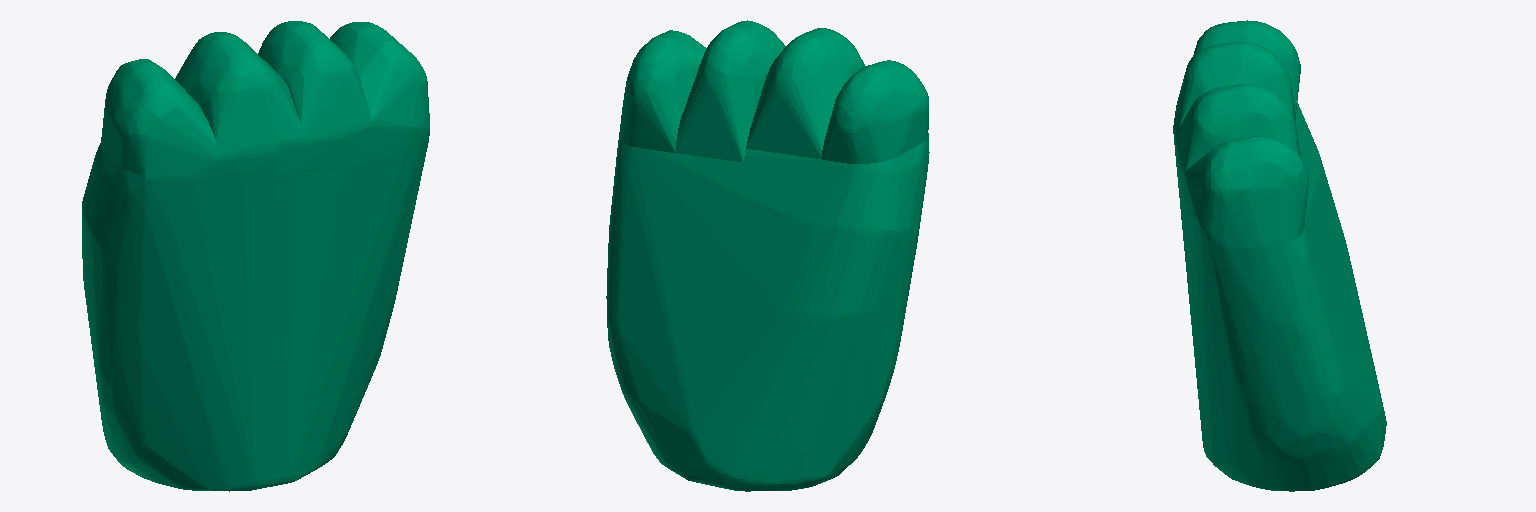
URDF robot description (ability_hand):
<robot name="ability_hand">
  <link name="base_link"/>
  <joint name="base_joint" type="fixed">
    <parent link="base_link"/>
    <child link="base"/>
    <origin xyz="0 0 0" rpy="0 0 0"/>
  </joint>
  <link name="base">
    <visual name="wrist_mesh">
      <origin rpy="0 0 0" xyz="0 0 0"/>
      <geometry>
        <mesh filename="meshes/visual/wristmesh.obj"/>
      </geometry>
    </visual>
    <collision>
      <origin xyz="0 0 0" rpy="0 0 0"/>
      <geometry>
        <mesh filename="meshes/collision/wristmesh_C.obj"/>
      </geometry>
    </collision>
    <inertial>  <!-- the mass and inertia here are NOT correct -->
      <mass value="0.200"/>
      <inertia ixx="978.26e-6" ixy="87.34e-6" ixz="322.99e-6" iyy="1244.78e-6" iyz="244.74e-6" izz="456.22e-6"/>
      <origin xyz="22.41911e-3 -0.15798201e-3 -0.01319866e-3" rpy="0 0 0"/>
    </inertial>
  </link>
  <joint name="wrist2thumb" type="fixed">
    <parent link="base"/>
    <child link="thumb_base"/>
    <origin xyz="-24.0476665e-3 3.78124745e-3 32.32964923e-3" rpy="3.14148426 -0.08848813 -3.14036612"/>
  </joint>
  <link name="thumb_base">
    <inertial>
      <mass value="0.200"/>
      <inertia ixx="978.26e-6" ixy="87.34e-6" ixz="322.99e-6" iyy="1244.78e-6" iyz="244.74e-6" izz="456.22e-6"/>
      <origin xyz="22.41911e-3 -0.15798201e-3 -0.01319866e-3" rpy="0 0 0"/>
    </inertial>
    <visual name="palm_mesh">
      <origin rpy="0 0 0" xyz="0 0 0"/>
      <geometry>
        <mesh filename="meshes/visual/FB_palm_ref_MIR.obj"/>
      </geometry>
    </visual>
    <collision>                                  <!-- thumb_base -->
      <origin xyz="0 0 0" rpy="0 0 0"/>
      <geometry>
        <mesh filename="meshes/collision/FB_palm_ref_MIR.obj"/>
      </geometry>
    </collision>
  </link>
  <link name="index_L1">
    <inertial>
      <mass value="0.00635888"/>
      <inertia ixx="0.29766e-4" ixy="-0.06447133e-4" ixz="-0.00423315e-4" iyy="3.6947967e-4" iyz="0.00083028e-4" izz="3.8176336e-4"/>
      <origin xyz="22.41911e-3 -0.15798201e-3 -0.01319866e-3" rpy="0 0 0"/>
    </inertial>
    <visual name="index_mesh_1">
      <origin xyz="38.472723e-3 3.257695e-3 0.000000" rpy="0 0 0.084474"/>
      <geometry>
        <mesh filename="meshes/visual/idx-F1.obj"/>
      </geometry>
    </visual>
    <collision>                                  <!-- index_L1 -->
      <origin xyz="0.036 -0.00175 0" rpy="0 0 0"/>
      <geometry>
        <sphere radius="0.0085"/>
      </geometry>
    </collision>
    <collision>
      <origin xyz="0.019 -0.0045 0" rpy="0 0 0.0845"/>
      <geometry>
        <box size="0.028 0.012 0.016"/>
      </geometry>
    </collision>
    <collision>
      <origin xyz="-0.001 0 0.007" rpy="0 0 0.0845"/>
      <geometry>
        <box size="0.012 0.012 0.002"/>
      </geometry>
    </collision>
    <collision>
      <origin xyz="-0.001 0 -0.007" rpy="0 0 0.0845"/>
      <geometry>
        <box size="0.012 0.012 0.002"/>
      </geometry>
    </collision>
  </link>
  <link name="index_L2">
    <inertial>
      <mass value="0.00645"/>
      <inertia ixx="0.82671e-4" ixy="-1.08876e-4" ixz="-0.00037e-4" iyy="1.98028e-4" iyz="0.00081e-4" izz="2.64638e-4"/>
      <origin rpy="0 0 0" xyz="13.36818e-3 -8.75392e-3 -0.02886e-3"/>
    </inertial>
    <visual name="index_mesh_2">
      <origin rpy="0 0 0" xyz="9.1241e-3 0 0"/>
      <geometry>
        <mesh filename="meshes/visual/idx-F2.obj"/>
      </geometry>
    </visual>
    <collision>                            <!-- index_L2 -->
      <origin xyz="0 0 0" rpy="0 0 0"/>
      <geometry>
        <mesh filename="meshes/collision/idx-F2_C.obj"/>
      </geometry>
    </collision>
    <collision>
      <origin xyz="0.03 -0.016 0" rpy="0 0 0"/>
      <geometry>
        <sphere radius="0.007"/>
      </geometry>
    </collision>
  </link>
  <joint name="index_q1" type="revolute">
    <parent link="thumb_base"/>
    <child link="index_L1"/>
    <origin xyz=" 9.49e-3 -13.04e-3 -62.95e-3 " rpy=" -1.1595426535897932 1.284473 -1.0510016535897932 "/>
    <axis xyz="0 0 1"/>
    <limit lower="0" upper="2.0943951" effort="6.0" velocity="8.0677777442"/>    <!-- angles in rad, efforts in N-m, velocity in rad/s -->
    <dynamics damping="0.001" friction="0.001"/>  <!-- Friction coefficient is not from quantitative measurement -->
  </joint>
  <joint name="index_q2" type="revolute">
    <parent link="index_L1"/>
    <child link="index_L2"/>
    <origin xyz="38.472723e-3 3.257695e-3 0.000000e-3" rpy="0 0 0.084474"/>
    <axis xyz="0 0 1"/>
    <limit lower="0.0" upper="2.6586" effort="6.0" velocity="8.0677777442"/>    <!-- angles in rad, efforts in N-m, velocity in rad/s -->
    <dynamics damping="0.001" friction="0.001"/>  <!-- Friction coefficient is not from quantitative measurement -->
    <mimic joint="index_q1" multiplier="1.05851325" offset="0.72349796"/>
  </joint>
  <link name="index_anchor"/>
  <joint name="idx_anchor" type="fixed">
    <parent link="index_L2"/>
    <child link="index_anchor"/>
    <origin rpy="0 0 0" xyz="31.5541e-3  -10.44e-3 0.14e-3"/>
  </joint>
  <link name="middle_L1">
    <inertial>
      <mass value="0.00635888"/>
      <inertia ixx="0.29766e-4" ixy="-0.06447133e-4" ixz="-0.00423315e-4" iyy="3.6947967e-4" iyz="0.00083028e-4" izz="3.8176336e-4"/>
      <origin xyz="22.41911e-3 -0.15798201e-3 -0.01319866e-3" rpy="0 0 0"/>
    </inertial>
    <visual name="middle_mesh_1">
      <origin xyz="38.472723e-3 3.257695e-3 0.000000" rpy="0 0 0.084474"/>
      <geometry>
        <mesh filename="meshes/visual/idx-F1.obj"/>
      </geometry>
    </visual>
    <collision>                                  <!-- middle_L1 -->
      <origin xyz="0.036 -0.00175 0" rpy="0 0 0"/>
      <geometry>
        <sphere radius="0.0085"/>
      </geometry>
    </collision>
    <collision>
      <origin xyz="0.019 -0.0045 0" rpy="0 0 0.0845"/>
      <geometry>
        <box size="0.028 0.012 0.016"/>
      </geometry>
    </collision>
    <collision>
      <origin xyz="0.018 0.006 0" rpy="0 0 0.0845"/>
      <geometry>
        <box size="0.02 0.01 0.016"/>
      </geometry>
    </collision>
    <collision>
      <origin xyz="-0.001 0 0.007" rpy="0 0 0.0845"/>
      <geometry>
        <box size="0.012 0.012 0.002"/>
      </geometry>
    </collision>
    <collision>
      <origin xyz="-0.001 0 -0.007" rpy="0 0 0.0845"/>
      <geometry>
        <box size="0.012 0.012 0.002"/>
      </geometry>
    </collision>
  </link>
  <link name="middle_L2">
    <inertial>
      <mass value="0.00645"/>
      <inertia ixx="0.82671e-4" ixy="-1.08876e-4" ixz="-0.00037e-4" iyy="1.98028e-4" iyz="0.00081e-4" izz="2.64638e-4"/>
      <origin rpy="0 0 0" xyz="13.36818e-3 -8.75392e-3 -0.02886e-3"/>
    </inertial>
    <visual name="middle_mesh_2">
      <origin rpy="0 0 0" xyz="9.1241e-3 0 0"/>
      <geometry>
        <mesh filename="meshes/visual/idx-F2.obj"/>
      </geometry>
    </visual>
    <collision>                            <!-- middle_L2 -->
      <origin xyz="0 0 0" rpy="0 0 0"/>
      <geometry>
        <mesh filename="meshes/collision/idx-F2_C.obj"/>
      </geometry>
    </collision>
    <collision>
      <origin xyz="0.03 -0.016 0" rpy="0 0 0"/>
      <geometry>
        <sphere radius="0.007"/>
      </geometry>
    </collision>
  </link>
  <joint name="middle_q1" type="revolute">
    <parent link="thumb_base"/>
    <child link="middle_L1"/>
    <origin xyz=" -9.653191e-3 -15.310271e-3 -67.853949e-3 " rpy=" -1.2810616535897934 1.308458 -1.2453756535897933 "/>
    <limit lower="0" upper="2.0943951" effort="6.0" velocity="8.0677777442"/>    <!-- angles in rad, efforts in N-m, velocity in rad/s -->
    <dynamics damping="0.001" friction="0.001"/>  <!-- Friction coefficient is not from quantitative measurement -->
    <axis xyz="0 0 1"/>
  </joint>
  <joint name="middle_q2" type="revolute">
    <parent link="middle_L1"/>
    <child link="middle_L2"/>
    <origin xyz="38.472723e-3 3.257695e-3 0.000000" rpy="0 0 0.084474"/>
    <axis xyz="0 0 1"/>
    <limit lower="0.0" upper="2.6586" effort="6.0" velocity="8.0677777442"/>    <!-- angles in rad, efforts in N-m, velocity in rad/s -->
    <dynamics damping="0.001" friction="0.001"/>  <!-- Friction coefficient is not from quantitative measurement -->
    <mimic joint="middle_q1" multiplier="1.05851325" offset="0.72349796"/>
  </joint>
  <link name="middle_anchor"/>
  <joint name="mid_anchor" type="fixed">
    <parent link="middle_L2"/>
    <child link="middle_anchor"/>
    <origin rpy="0 0 0" xyz="31.5541e-3  -10.44e-3 0.14e-3"/>
  </joint>
  <link name="ring_L1">
    <inertial>
      <mass value="0.00635888"/>
      <inertia ixx="0.29766e-4" ixy="-0.06447133e-4" ixz="-0.00423315e-4" iyy="3.6947967e-4" iyz="0.00083028e-4" izz="3.8176336e-4"/>
      <origin xyz="22.41911e-3 -0.15798201e-3 -0.01319866e-3" rpy="0 0 0"/>
    </inertial>
    <visual name="ring_mesh_1">
      <origin xyz="38.472723e-3 3.257695e-3 0.000000" rpy="0 0 0.084474"/>
      <geometry>
        <mesh filename="meshes/visual/idx-F1.obj"/>
      </geometry>
    </visual>
    <collision>                                  <!-- ring_L1 -->
      <origin xyz="0.036 -0.00175 0" rpy="0 0 0"/>
      <geometry>
        <sphere radius="0.0085"/>
      </geometry>
    </collision>
    <collision>
      <origin xyz="0.019 -0.0045 0" rpy="0 0 0.0845"/>
      <geometry>
        <box size="0.028 0.012 0.016"/>
      </geometry>
    </collision>
    <collision>
      <origin xyz="0.018 0.006 0" rpy="0 0 0.0845"/>
      <geometry>
        <box size="0.02 0.01 0.016"/>
      </geometry>
    </collision>
    <collision>
      <origin xyz="-0.001 0 0.007" rpy="0 0 0.0845"/>
      <geometry>
        <box size="0.012 0.012 0.002"/>
      </geometry>
    </collision>
    <collision>
      <origin xyz="-0.001 0 -0.007" rpy="0 0 0.0845"/>
      <geometry>
        <box size="0.012 0.012 0.002"/>
      </geometry>
    </collision>
  </link>
  <link name="ring_L2">
    <inertial>
      <mass value="0.00645"/>
      <inertia ixx="0.82671e-4" ixy="-1.08876e-4" ixz="-0.00037e-4" iyy="1.98028e-4" iyz="0.00081e-4" izz="2.64638e-4"/>
      <origin rpy="0 0 0" xyz="13.36818e-3 -8.75392e-3 -0.02886e-3"/>
    </inertial>
    <visual name="ring_mesh_2">
      <origin rpy="0 0 0" xyz="9.1241e-3 0 0"/>
      <geometry>
        <mesh filename="meshes/visual/idx-F2.obj"/>
      </geometry>
    </visual>
    <collision>                            <!-- ring_L2 -->
      <origin xyz="0 0 0" rpy="0 0 0"/>
      <geometry>
        <mesh filename="meshes/collision/idx-F2_C.obj"/>
      </geometry>
    </collision>
    <collision>
      <origin xyz="0.03 -0.016 0" rpy="0 0 0"/>
      <geometry>
        <sphere radius="0.007"/>
      </geometry>
    </collision>
  </link>
  <joint name="ring_q1" type="revolute">
    <parent link="thumb_base"/>
    <child link="ring_L1"/>
    <origin xyz=" -29.95426e-3 -14.212492e-3 -67.286105e-3 " rpy=" -1.424994653589793 1.321452 -1.4657306535897934 "/>
    <limit lower="0" upper="2.0943951" effort="6.0" velocity="8.0677777442"/>    <!-- angles in rad, efforts in N-m, velocity in rad/s -->
    <dynamics damping="0.001" friction="0.001"/>  <!-- Friction coefficient is not from quantitative measurement -->
    <axis xyz="0 0 1"/>
  </joint>
  <joint name="ring_q2" type="revolute">
    <parent link="ring_L1"/>
    <child link="ring_L2"/>
    <origin xyz="38.472723e-3 3.257695e-3 0.000000" rpy="0 0 0.084474"/>
    <axis xyz="0 0 1"/>
    <limit lower="0.0" upper="2.6586" effort="6.0" velocity="8.0677777442"/>    <!-- angles in rad, efforts in N-m, velocity in rad/s -->
    <dynamics damping="0.001" friction="0.001"/>  <!-- Friction coefficient is not from quantitative measurement -->
    <mimic joint="ring_q1" multiplier="1.05851325" offset="0.72349796"/>
  </joint>
  <link name="ring_anchor"/>
  <joint name="rng_anchor" type="fixed">
    <parent link="ring_L2"/>
    <child link="ring_anchor"/>
    <origin rpy="0 0 0" xyz="31.5541e-3  -10.44e-3 0.14e-3"/>
  </joint>
  <link name="pinky_L1">
    <inertial>
      <mass value="0.00635888"/>
      <inertia ixx="0.29766e-4" ixy="-0.06447133e-4" ixz="-0.00423315e-4" iyy="3.6947967e-4" iyz="0.00083028e-4" izz="3.8176336e-4"/>
      <origin xyz="22.41911e-3 -0.15798201e-3 -0.01319866e-3" rpy="0 0 0"/>
    </inertial>
    <visual name="pinky_mesh_1">
      <origin xyz="38.472723e-3 3.257695e-3 0.000000" rpy="0 0 0.084474"/>
      <geometry>
        <mesh filename="meshes/visual/idx-F1.obj"/>
      </geometry>
    </visual>
    <collision>                                  <!-- pinky_L1 -->
      <origin xyz="0.036 -0.00175 0" rpy="0 0 0"/>
      <geometry>
        <sphere radius="0.0085"/>
      </geometry>
    </collision>
    <collision>
      <origin xyz="0.019 -0.0045 0" rpy="0 0 0.0845"/>
      <geometry>
        <box size="0.028 0.012 0.016"/>
      </geometry>
    </collision>
    <collision>
      <origin xyz="0.018 0.006 0" rpy="0 0 0.0845"/>
      <geometry>
        <box size="0.02 0.01 0.016"/>
      </geometry>
    </collision>
    <collision>
      <origin xyz="-0.001 0 0.007" rpy="0 0 0.0845"/>
      <geometry>
        <box size="0.012 0.012 0.002"/>
      </geometry>
    </collision>
    <collision>
      <origin xyz="-0.001 0 -0.007" rpy="0 0 0.0845"/>
      <geometry>
        <box size="0.012 0.012 0.002"/>
      </geometry>
    </collision>
  </link>
  <link name="pinky_L2">
    <inertial>
      <mass value="0.00645"/>
      <inertia ixx="0.82671e-4" ixy="-1.08876e-4" ixz="-0.00037e-4" iyy="1.98028e-4" iyz="0.00081e-4" izz="2.64638e-4"/>
      <origin rpy="0 0 0" xyz="13.36818e-3 -8.75392e-3 -0.02886e-3"/>
    </inertial>
    <visual name="pinky_mesh_2">
      <origin rpy="0 0 0" xyz="9.1241e-3 0 0"/>
      <geometry>
        <mesh filename="meshes/visual/idx-F2.obj"/>
      </geometry>
    </visual>
    <collision>                            <!-- pinky_L2 -->
      <origin xyz="0 0 0" rpy="0 0 0"/>
      <geometry>
        <mesh filename="meshes/collision/idx-F2_C.obj"/>
      </geometry>
    </collision>
    <collision>
      <origin xyz="0.03 -0.016 0" rpy="0 0 0"/>
      <geometry>
        <sphere radius="0.007"/>
      </geometry>
    </collision>
  </link>
  <joint name="pinky_q1" type="revolute">
    <parent link="thumb_base"/>
    <child link="pinky_L1"/>
    <origin xyz=" -49.521293e-3 -11.004583e-3 -63.029065e-3 " rpy=" -1.3764826535897934 1.32222 -1.4832096535897932 "/>
    <limit lower="0" upper="2.0943951" effort="6.0" velocity="8.0677777442"/>    <!-- angles in rad, efforts in N-m, velocity in rad/s -->
    <dynamics damping="0.001" friction="0.001"/>  <!-- Friction coefficient is not from quantitative measurement -->
    <axis xyz="0 0 1"/>
  </joint>
  <joint name="pinky_q2" type="revolute">
    <parent link="pinky_L1"/>
    <child link="pinky_L2"/>
    <origin xyz="38.472723e-3 3.257695e-3 0.000000" rpy="0 0 0.084474"/>
    <limit lower="0.0" upper="2.6586" effort="6.0" velocity="8.0677777442"/>    <!-- angles in rad, efforts in N-m, velocity in rad/s -->
    <dynamics damping="0.001" friction="0.001"/>  <!-- Friction coefficient is not from quantitative measurement -->
    <axis xyz="0 0 1"/>
    <mimic joint="pinky_q1" multiplier="1.05851325" offset="0.72349796"/>
  </joint>
  <link name="pinky_anchor"/>
  <joint name="pnky_anchor" type="fixed">
    <parent link="pinky_L2"/>
    <child link="pinky_anchor"/>
    <origin rpy="0 0 0" xyz="31.5541e-3  -10.44e-3 0.14e-3"/>
  </joint>
  <link name="thumb_L1">
    <inertial>
      <mass value="0.00268342"/>
      <inertia ixx="0.16931e-4" ixy="-0.076214e-4" ixz="-0.16959148e-4" iyy="0.77769934e-4" iyz="0.0156622e-4" izz="0.7249122e-4"/>
      <origin rpy="0 0 0" xyz="14.606e-3 -1.890854e-3 -3.1155356e-3"/>
    </inertial>
    <visual name="thumb_mesh_1">
      <origin xyz=" 27.8283501e-3 1.7436510745838653e-19 14.7507e-3 " rpy=" 1.832595714594045 -0.0 5.366520605522463e-18 "/>
      <geometry>
        <mesh filename="meshes/visual/thumb-F1-MIR.obj"/>
      </geometry>
    </visual>
    <collision>                            <!-- thumb_L1 -->
      <origin xyz="27.8283501e-3 1.7436510745838653e-19 14.7507e-3" rpy="1.832595714594045 -0.0 5.366520605522463e-18"/>
      <geometry>
        <mesh filename="meshes/collision/thumb-F1-MIR_C.obj"/>
      </geometry>
    </collision>
  </link>
  <link name="thumb_L2">
    <inertial>
      <mass value="0.0055"/>
      <inertia ixx="4.4789082e-4" ixy="4.4789082e-4" ixz="-0.62144934e-4" iyy="15.600996e-4" iyz="-0.07466143e-4" izz="17.908554e-4"/>
      <origin rpy="0 0 0" xyz="30.020522e-3 5.59476e-3 -4.1504356e-3"/>
    </inertial>
    <visual name="thumb_mesh_2">
      <origin xyz="65.18669e-3 23.34021e-3 3.93483e-3" rpy="-3.141592 0 0.343830"/>
      <geometry>
        <mesh filename="meshes/visual/thumb-F2.obj"/>
      </geometry>
    </visual>
    <collision>                            <!-- thumb_L2 -->
      <origin xyz="65.18669e-3 23.34021e-3 3.93483e-3" rpy="-3.141592 0 0.343830"/>
      <geometry>
        <mesh filename="meshes/collision/thumb-F2_C.obj"/>
      </geometry>
    </collision>
  </link>
  <joint name="thumb_q1" type="revolute">
    <parent link="thumb_base"/>
    <child link="thumb_L1"/>
    <origin xyz=" 0.0 0.0 0.0 " rpy=" 3.141592653589793 -0.0 -0.18884434641020664 "/>
    <axis xyz="0 0 1"/>
    <limit lower="-2.0943951" upper="0" effort="1.2" velocity="40.338888721"/>    <!-- angles in rad, efforts in N-m, velocity in rad/s -->
    <dynamics damping="0.001" friction="0.001"/>  <!-- Friction coefficient is not from quantitative measurement -->
  </joint>
  <joint name="thumb_q2" type="revolute">
    <parent link="thumb_L1"/>
    <child link="thumb_L2"/>
    <origin xyz=" 27.8283501e-3 1.7436510745838653e-19 14.7507e-3 " rpy=" 1.832595714594045 -0.0 5.366520605522463e-18 "/>
    <axis xyz="0 0 1"/>
    <limit lower="0" upper="2.0943951" effort="6.0" velocity="8.0677777442"/>    <!-- angles in rad, efforts in N-m, velocity in rad/s -->
    <dynamics damping="0.001" friction="0.001"/>  <!-- Friction coefficient is not from quantitative measurement -->
  </joint>
  <link name="thumb_anchor"/>
  <joint name="thmb_anchor" type="fixed">
    <parent link="thumb_L2"/>
    <child link="thumb_anchor"/>
    <origin rpy="0 0 0" xyz="52.00122724e-3 28.00869333e-3 6.98483578e-3"/>
  </joint>
</robot>

--- Facts derived from the render (not from the file) ---
3 views of the same robot in one strip: view 1: azimuth 30°, elevation 25°; view 2: azimuth 150°, elevation 25°; view 3: azimuth 270°, elevation 25° (orthographic).
Model ability_hand with 18 links and 17 joints (10 revolute, 7 fixed), rooted at base_link, posed every joint at zero.
Visible links, largest first — view 1: thumb_base; view 2: thumb_base; view 3: thumb_base.
Boxes of the visible links, x1,y1,x2,y2 form: thumb_base: [82, 21, 429, 491]; thumb_base: [606, 20, 929, 491]; thumb_base: [1173, 20, 1386, 491].
Size in the robot's own frame: 0.083 by 0.0552 by 0.1119 metres.
1 mesh visuals loaded from 6 distinct referenced files (1 OBJ); not drawn: 11 (reference not matched to a file when rendering).